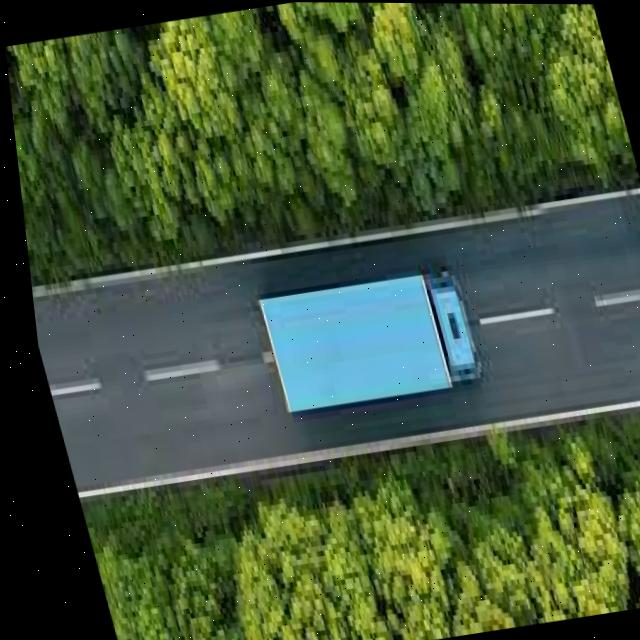truck: (242, 255, 486, 423)
